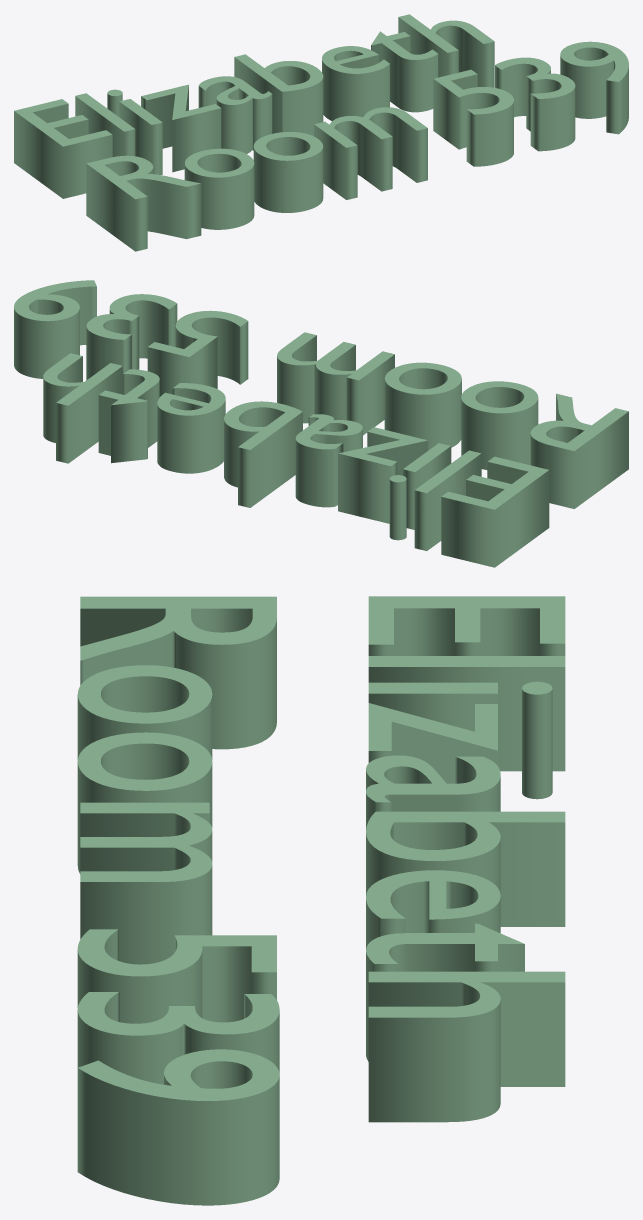
File: elizabeth-539.gltf
The picture shows the model from 3 angles, top to bottom: view 1: azimuth 30°, elevation 25°; view 2: azimuth 150°, elevation 25°; view 3: azimuth 270°, elevation 25°; orthographic projection. The views are drawn at different scales.
Parts seen in each view (by area): view 1: Text; view 2: Text; view 3: Text.
Boxes of the visible parts, box(x1,y1,x2,y2) form: Text: box(14, 14, 628, 251); Text: box(14, 280, 628, 567); Text: box(77, 596, 565, 1205).
Size of the model in its own units: 4.14 by 0.4 by 1.69.
